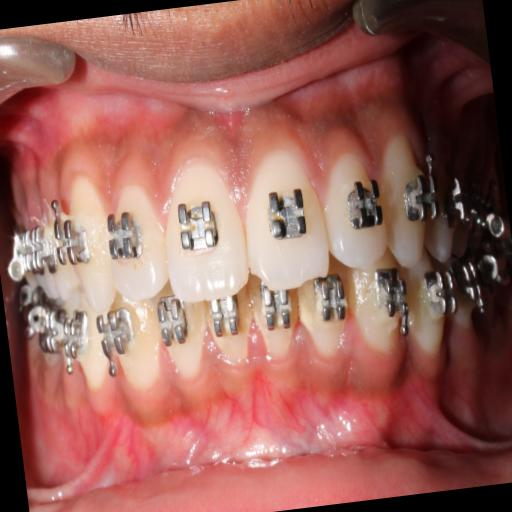correct_brace: (168, 181, 226, 263), (256, 174, 314, 253), (104, 199, 150, 278), (338, 172, 384, 238)
incorrect_brace: (320, 146, 390, 270), (100, 178, 170, 300)
